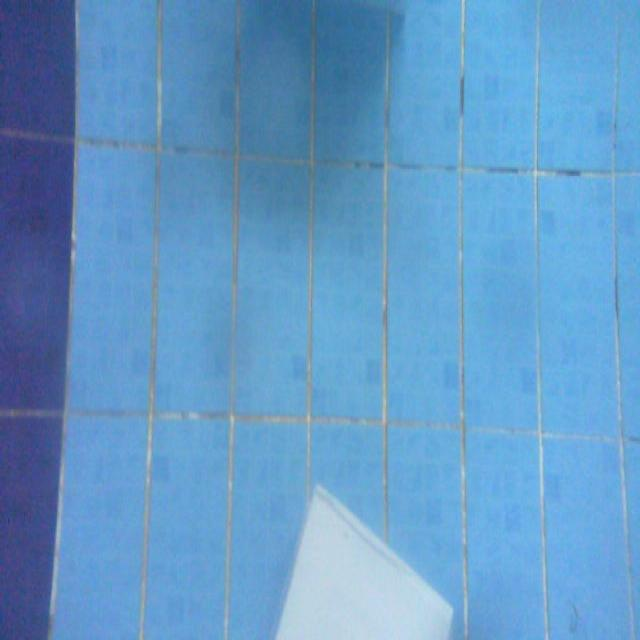Cuboid: (269, 478, 454, 638)
